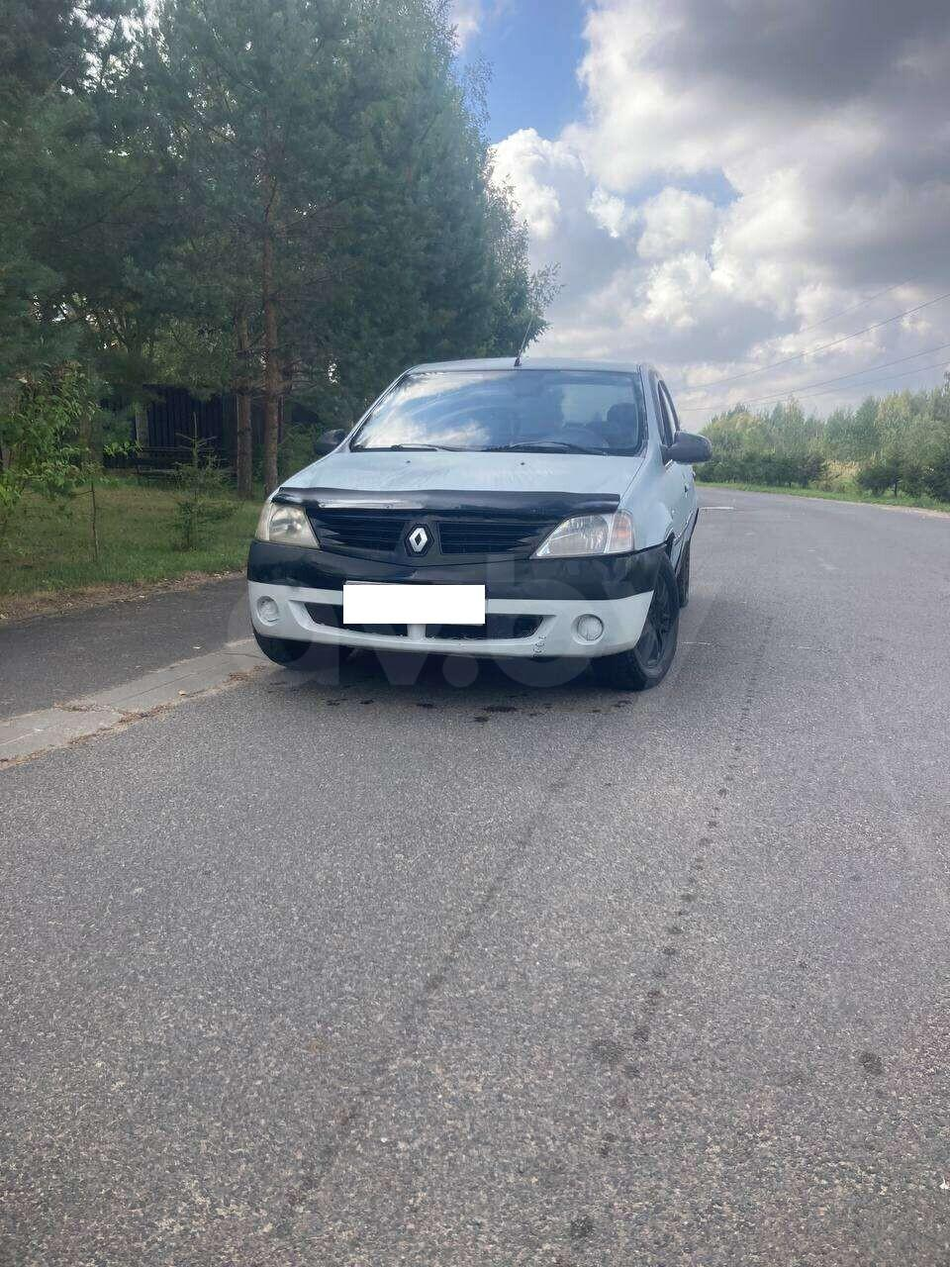Logan_2004-2009: (233, 351, 721, 703)
